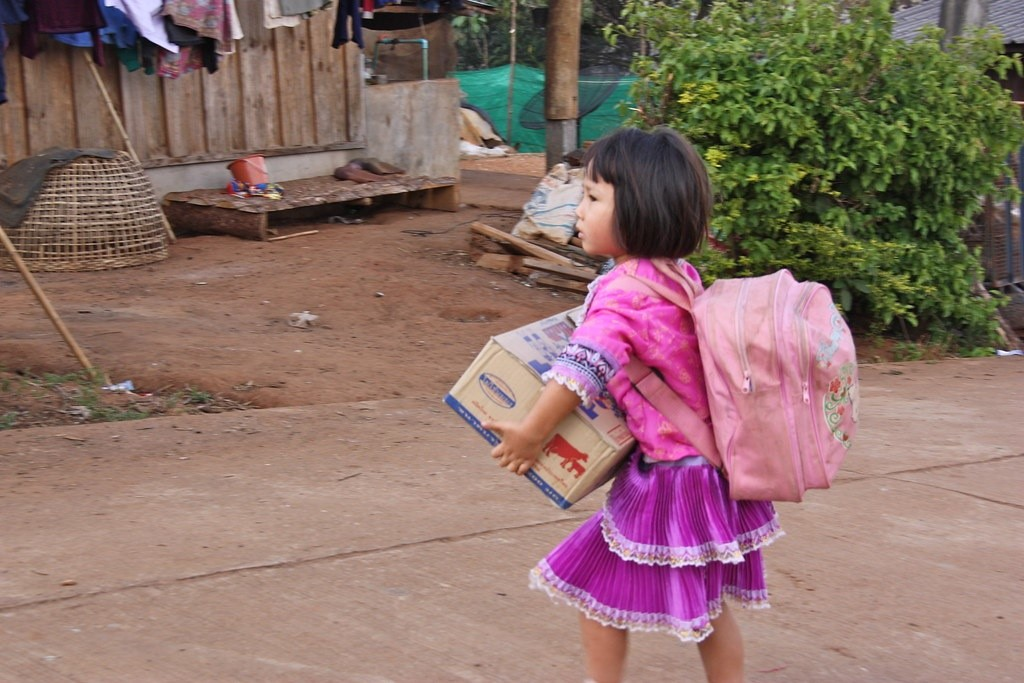face_no_mask: (573, 130, 703, 260)
